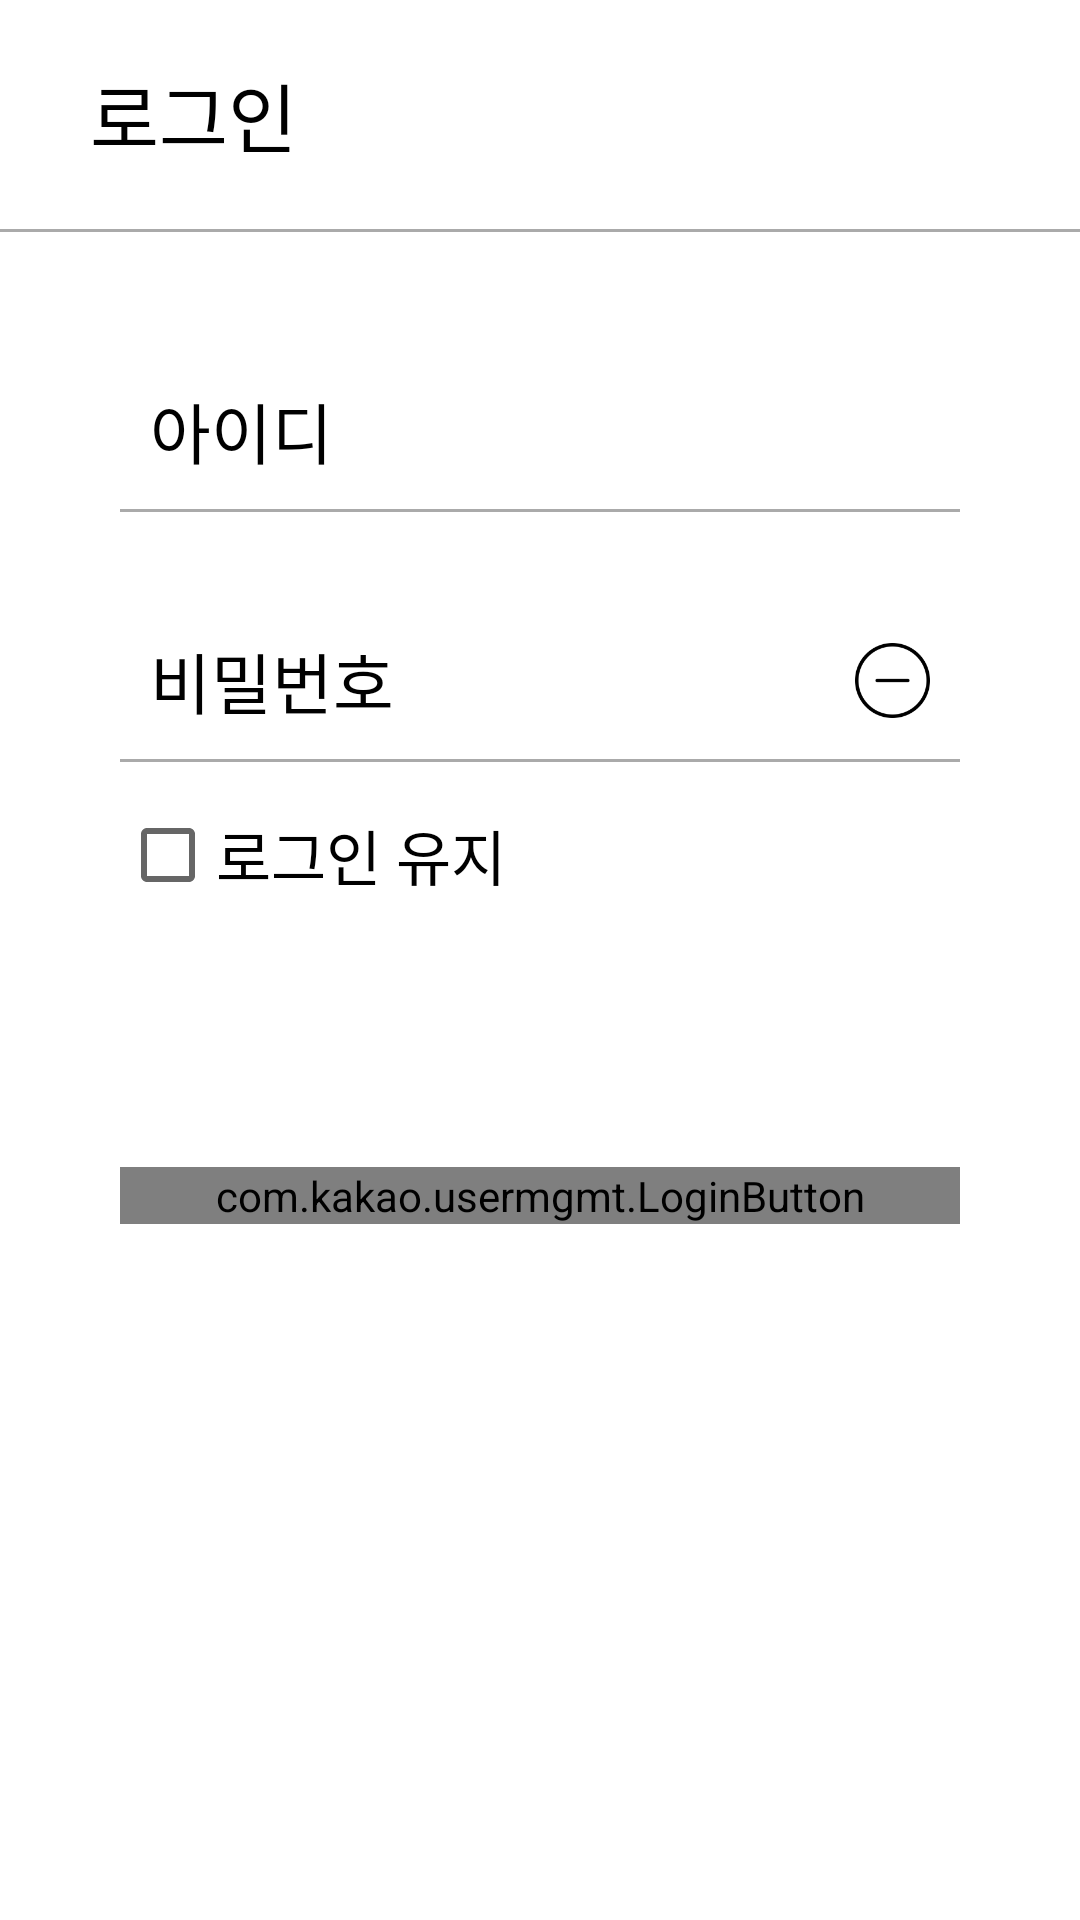

Screen size 1080×1920. Icon name, then its center in pixels as (x,y):
hide: (892,680)
